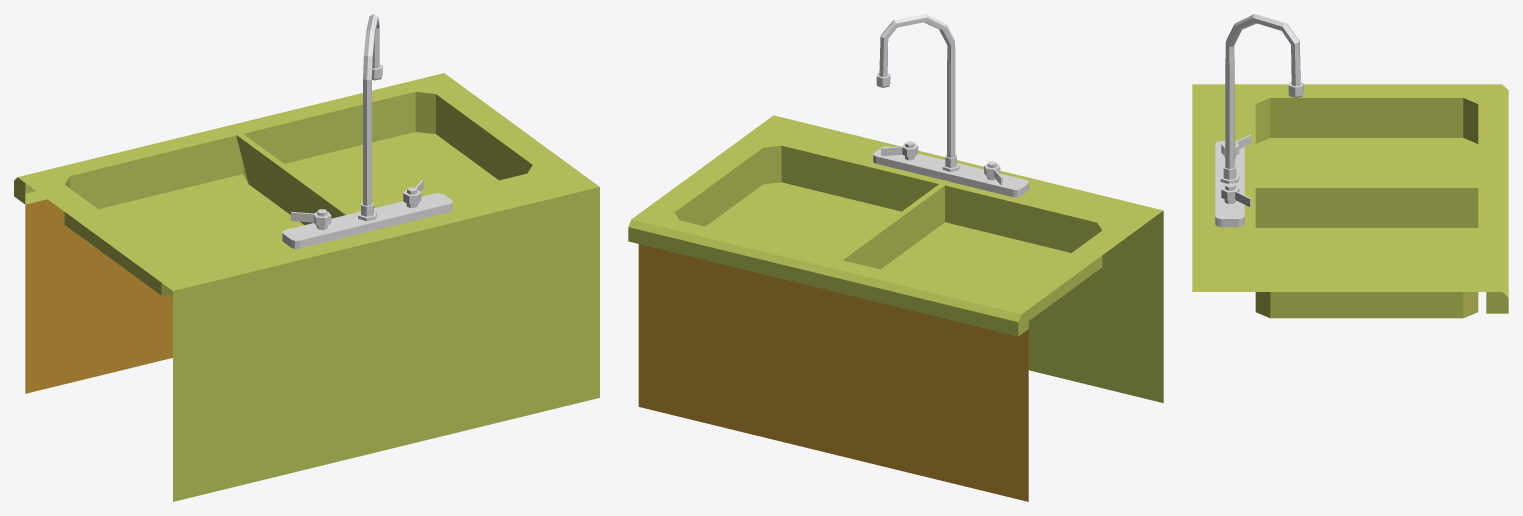
The model's file is Cntr-sink.fbx.
3 views of the same model, side by side, from view 1: azimuth 30°, elevation 25°; view 2: azimuth 150°, elevation 25°; view 3: azimuth 270°, elevation 25° (orthographic). The views are drawn at different scales.
Parts seen in each view (by area): view 1: Cntr-Basic, Cube; view 2: Cntr-Basic, Cube; view 3: Cntr-Basic, Cube.
Boxes of the visible parts, left/top/right/bottom form: Cntr-Basic: left=14, top=73, right=599, bottom=501; Cube: left=282, top=14, right=452, bottom=248; Cntr-Basic: left=628, top=115, right=1163, bottom=501; Cube: left=873, top=14, right=1029, bottom=197; Cntr-Basic: left=1192, top=84, right=1508, bottom=318; Cube: left=1215, top=14, right=1303, bottom=227.
Bounding box in the file's own units: 3380 × 2975 × 2180.
